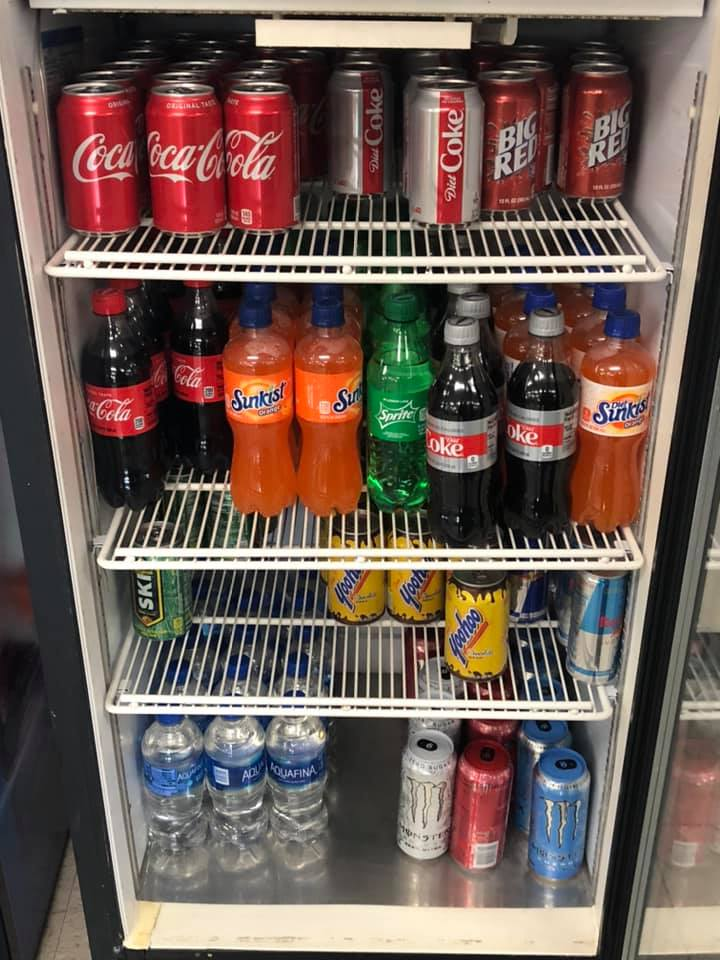aquafina: (269, 760, 319, 785)
bigred: (586, 102, 628, 168), (497, 114, 535, 181)
cocacola: (149, 130, 227, 186)
dietcoke: (441, 106, 463, 209), (360, 89, 382, 177), (422, 429, 466, 458)
monster: (540, 796, 585, 852), (404, 773, 445, 830)
ski: (134, 573, 156, 611)
sprite: (378, 404, 416, 431)
sunkist: (233, 382, 285, 412), (596, 398, 650, 425)
yoohoo: (449, 607, 483, 664)
